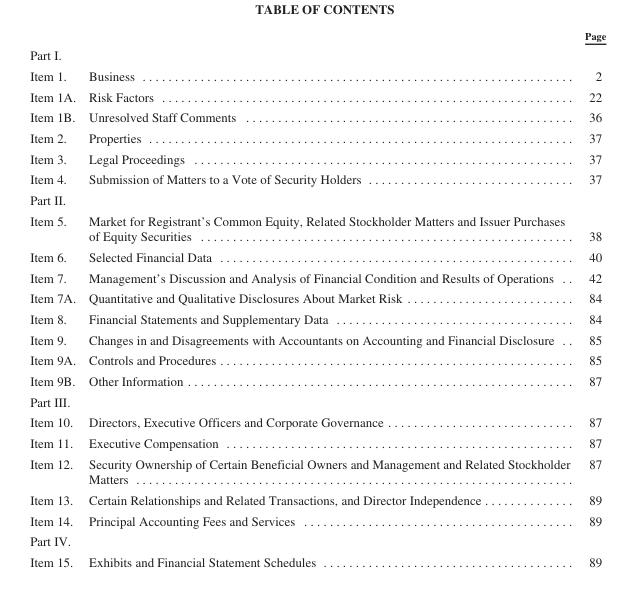table: (29, 29, 605, 568)
table column: (81, 29, 576, 568), (29, 29, 81, 568), (576, 29, 605, 568)
table column header: (29, 29, 605, 44)
table projected row header: (29, 44, 605, 65), (29, 189, 605, 210), (29, 390, 605, 411), (29, 530, 605, 551)
table row: (29, 452, 605, 489), (29, 210, 605, 246), (29, 44, 605, 65), (29, 65, 605, 86), (29, 106, 605, 127), (29, 127, 605, 148), (29, 168, 605, 189), (29, 189, 605, 210), (29, 266, 605, 287), (29, 287, 605, 308), (29, 328, 605, 349), (29, 349, 605, 370), (29, 390, 605, 411), (29, 411, 605, 432), (29, 509, 605, 530), (29, 530, 605, 551), (29, 86, 605, 106), (29, 148, 605, 168), (29, 246, 605, 266), (29, 308, 605, 328), (29, 370, 605, 390), (29, 432, 605, 452), (29, 489, 605, 509), (29, 551, 605, 568), (29, 29, 605, 44)
